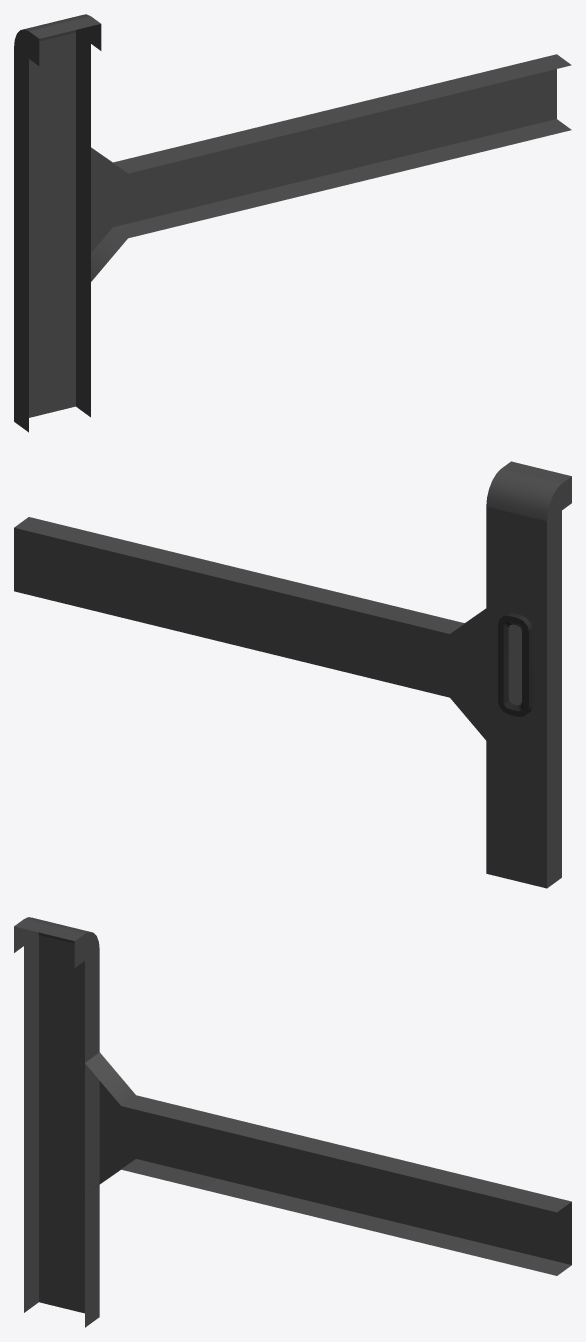
Rendered from SM_cable_left_02.fbx.
The picture shows the model from 3 angles, top to bottom: view 1: azimuth 30°, elevation 25°; view 2: azimuth 150°, elevation 25°; view 3: azimuth 330°, elevation 25°; orthographic projection.
Visible parts, largest first — view 1: SM_cable_left_02; view 2: SM_cable_left_02; view 3: SM_cable_left_02.
Boxes of the visible parts, x1,y1,x2,y2 form: SM_cable_left_02: [14, 14, 571, 432]; SM_cable_left_02: [14, 461, 571, 888]; SM_cable_left_02: [14, 917, 571, 1327].
Size of the model in its own units: 212 by 150 by 19.69.
Materials: 2 (2 with a texture image).
